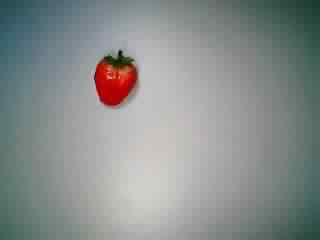strawberry: (83, 48, 156, 112)
